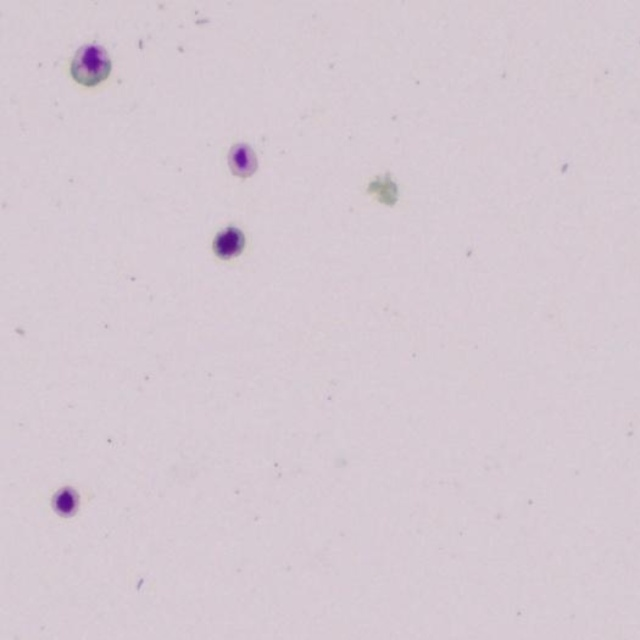intermediate: (72, 45, 110, 85), (228, 143, 257, 177), (213, 227, 244, 257), (55, 488, 77, 514)
